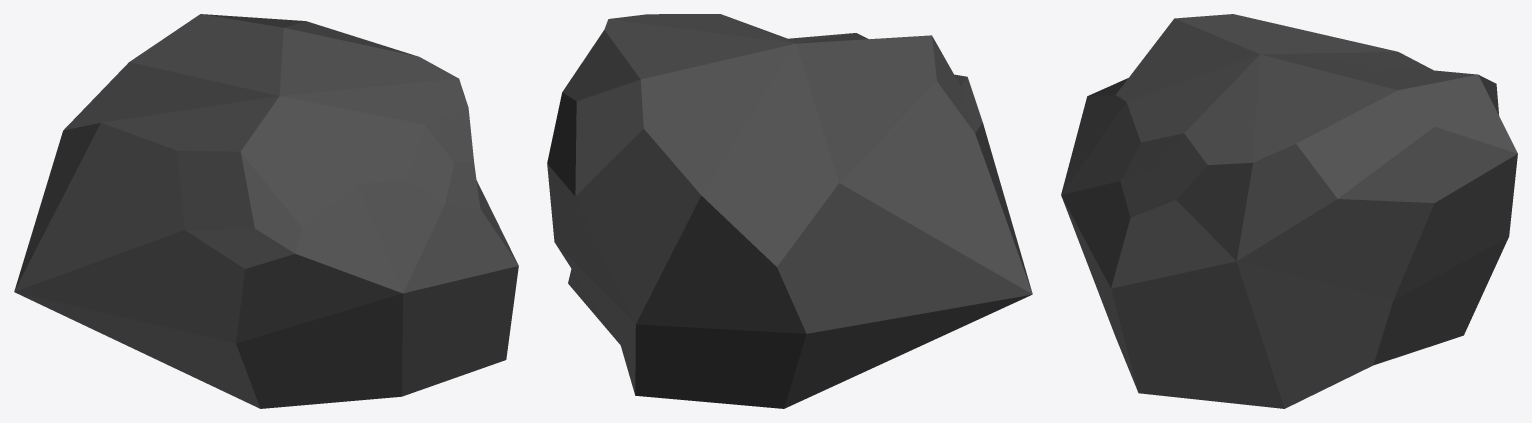
The model's file is Rock_03.fbx.
The picture shows the model from 3 angles, left to right: view 1: azimuth 30°, elevation 25°; view 2: azimuth 150°, elevation 25°; view 3: azimuth 270°, elevation 25°; orthographic projection. The views are drawn at different scales.
Parts seen in each view (by area): view 1: Rock_03; view 2: Rock_03; view 3: Rock_03.
Boxes of the visible parts, x1,y1,x2,y2 form: Rock_03: [14, 14, 518, 408]; Rock_03: [547, 14, 1032, 408]; Rock_03: [1061, 14, 1517, 408].
Size of the model in its own units: 91.27 by 57.85 by 82.6.
